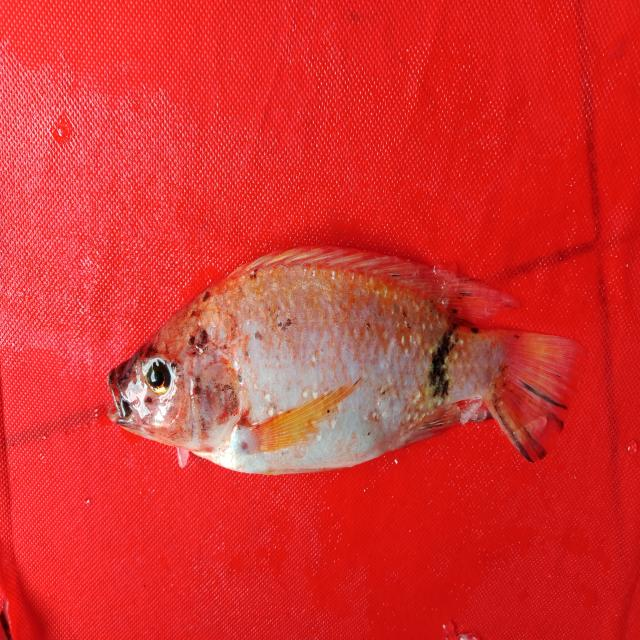ikan: (96, 224, 594, 488)
